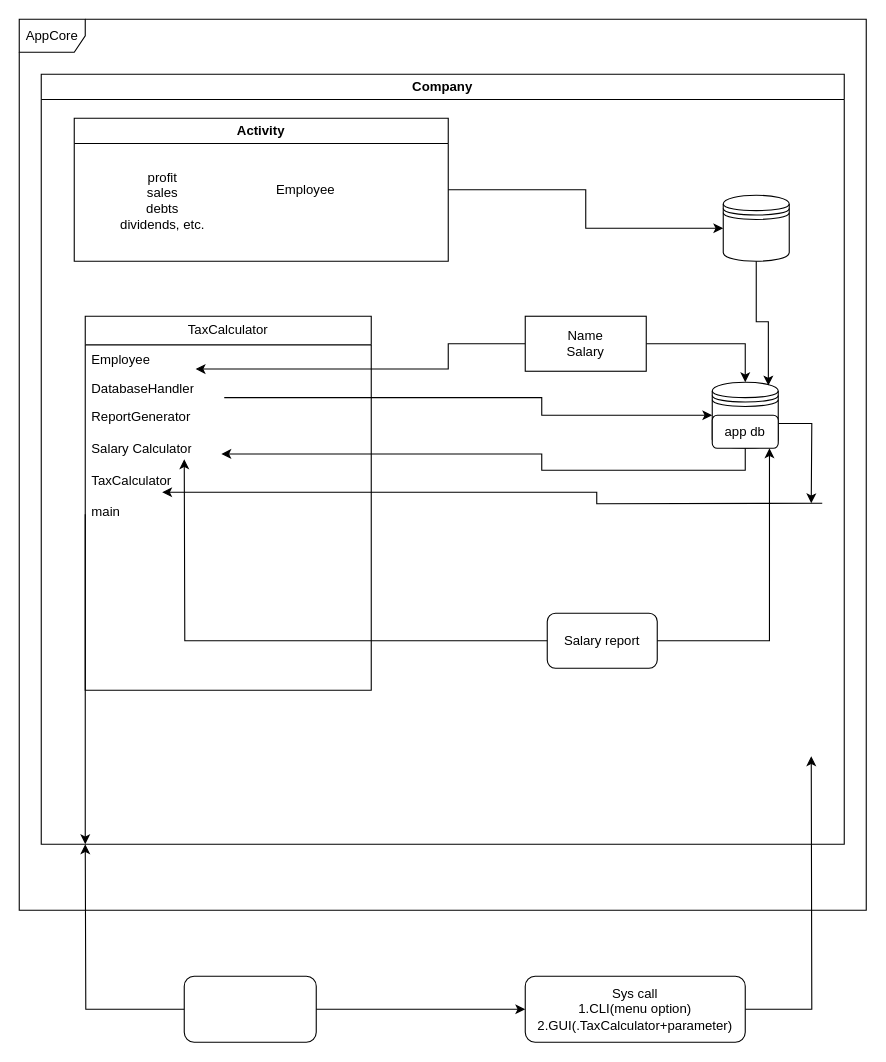
The diagram is 886 pixels wide and 1062 high, and some of its shapes have lost their labels. Each missing label, with the centre of its shape:
company db: (x=755, y=227)
Main program CLI/GUI: (x=249, y=1008)
